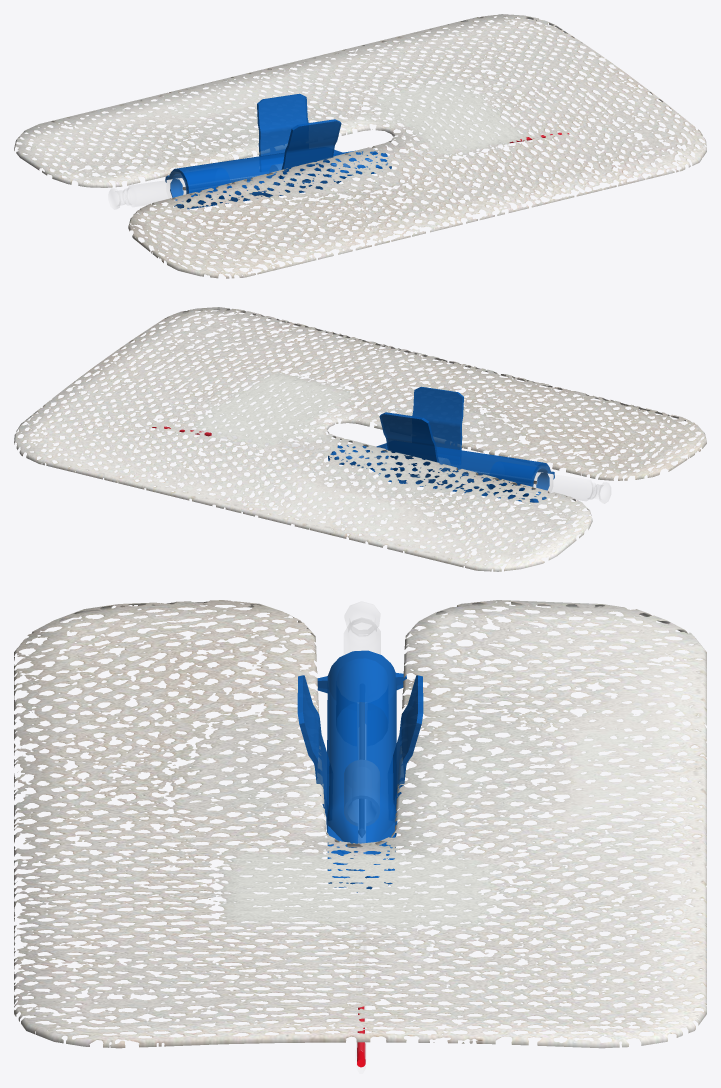
File: Cannula components.fbx
3 views of the same model, one above another, from view 1: azimuth 30°, elevation 25°; view 2: azimuth 150°, elevation 25°; view 3: azimuth 270°, elevation 25° (orthographic). The views are drawn at different scales.
Visible parts, largest first — view 1: Cannula dressing, Catheter hub_wings, Catheter hub_wings.001, Catheter hub_wings.002, Introducer Needle; view 2: Cannula dressing, Catheter hub_wings, Catheter hub_wings.002, Catheter hub_wings.001, Introducer Needle; view 3: Cannula dressing, Catheter hub_wings, Catheter hub_wings.001, Catheter hub_wings.002, Introducer Needle, Valve.
Part boxes in pixels (left/top/right/bottom): Cannula dressing: left=14, top=14, right=706, bottom=278; Catheter hub_wings: left=165, top=149, right=391, bottom=209; Catheter hub_wings.001: left=257, top=93, right=308, bottom=171; Catheter hub_wings.002: left=278, top=119, right=341, bottom=185; Introducer Needle: left=109, top=165, right=333, bottom=208; Cannula dressing: left=14, top=307, right=706, bottom=571; Catheter hub_wings: left=328, top=443, right=554, bottom=502; Catheter hub_wings.002: left=412, top=386, right=463, bottom=464; Catheter hub_wings.001: left=379, top=412, right=440, bottom=477; Introducer Needle: left=443, top=466, right=610, bottom=502; Cannula dressing: left=14, top=600, right=706, bottom=1048; Catheter hub_wings: left=317, top=650, right=406, bottom=892; Catheter hub_wings.001: left=388, top=675, right=423, bottom=820; Catheter hub_wings.002: left=297, top=675, right=332, bottom=820; Introducer Needle: left=344, top=602, right=380, bottom=837; Valve: left=344, top=760, right=379, bottom=825.
Bounding box in the file's own units: 6.17 × 1.03 × 4.11.
6 materials, 1 textured.
